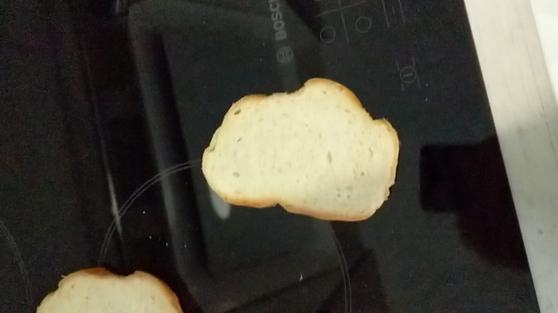white_bread: (197, 76, 403, 222), (42, 265, 180, 313)
